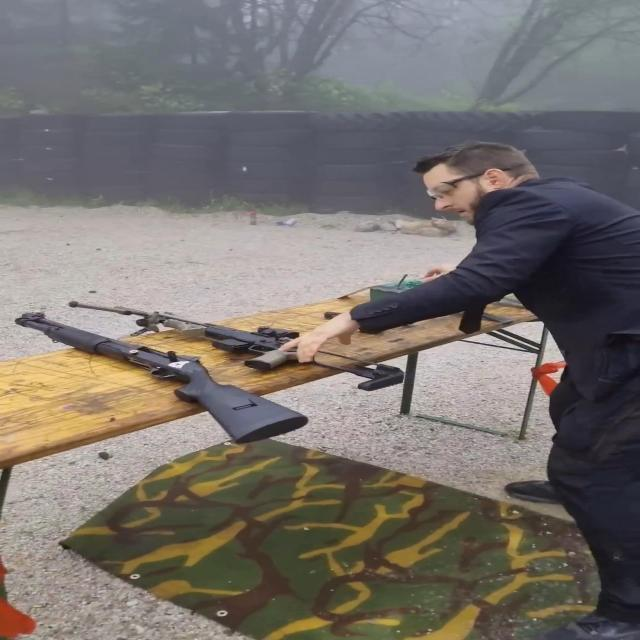pistol: (12, 310, 316, 446), (66, 299, 410, 391)
